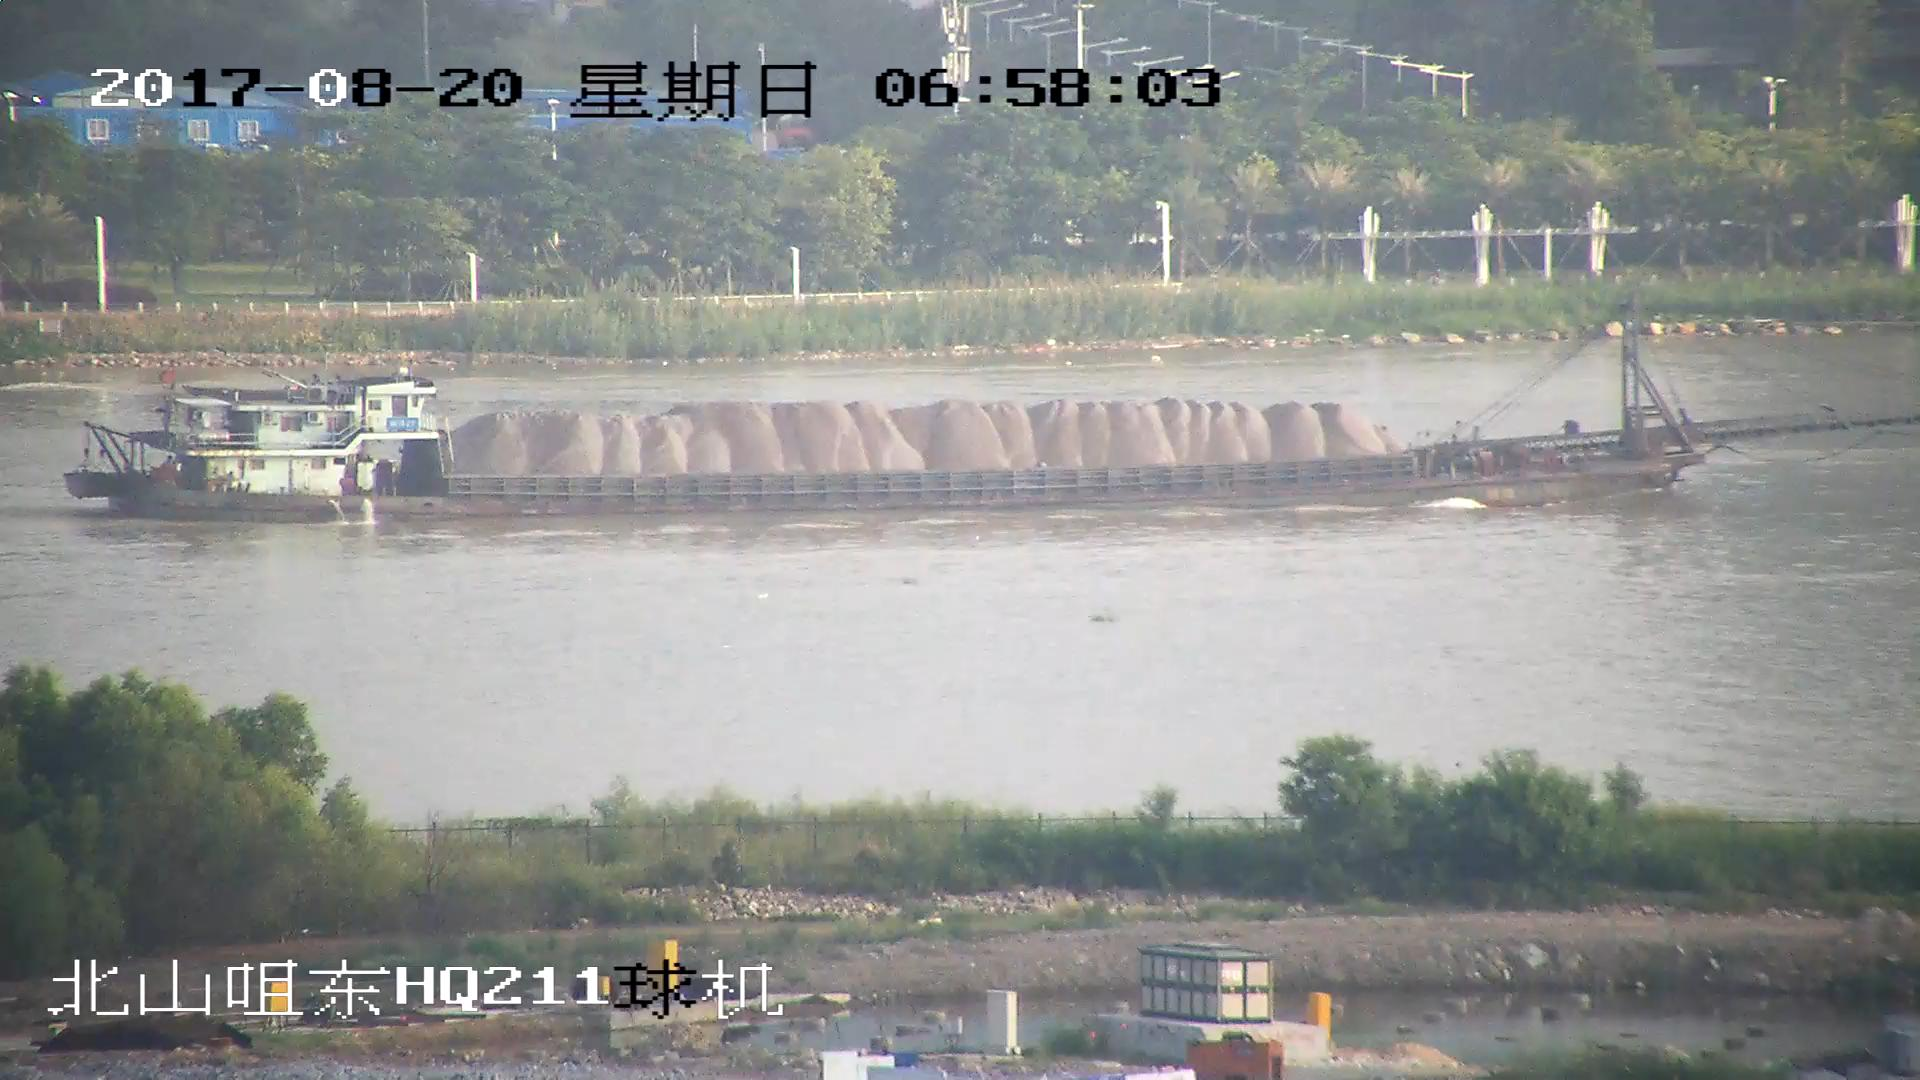ore carrier: (66, 292, 1920, 529)
